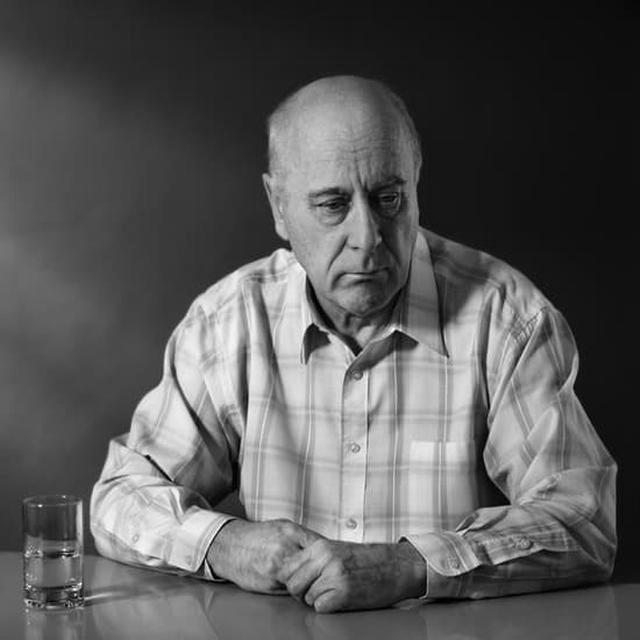Sadness: (301, 123, 416, 312)
